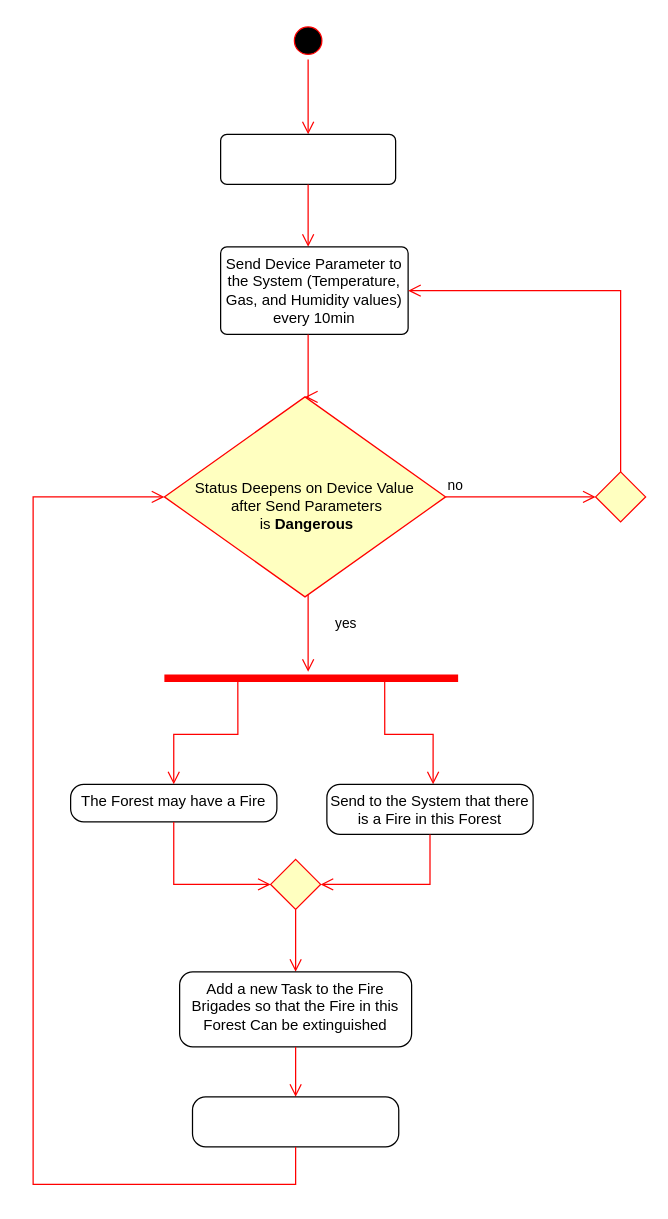
This 668x1219 diagram has some shape labels left out. Here are the shapes that lost their labels. From the top down, the centre of each, then its label:
At point (307, 158): "Add Device For the Forest".
At point (295, 1121): "Update and Change Fire Status To Done".
